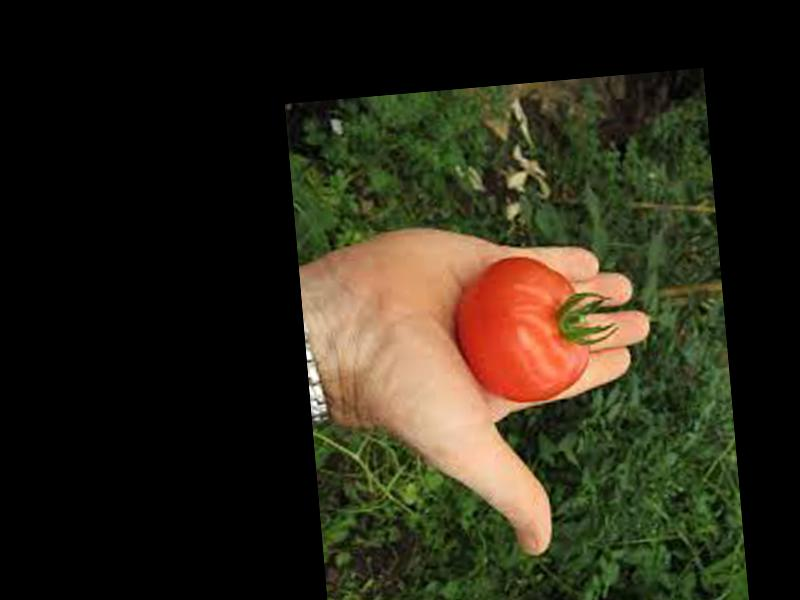Tomato: (452, 249, 592, 409)
